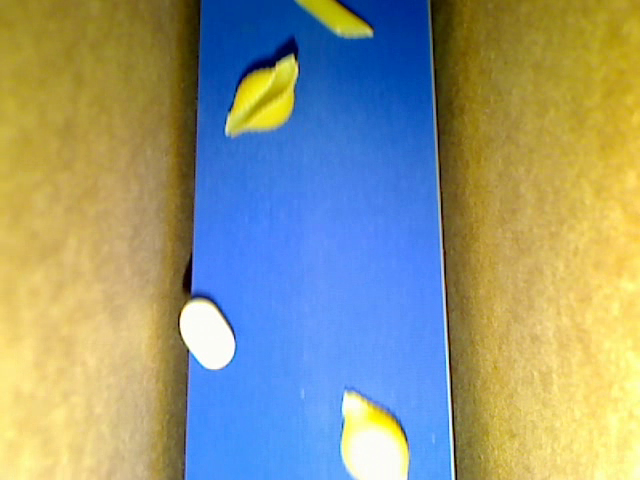penne: (293, 1, 374, 39)
shell: (340, 389, 410, 479), (223, 54, 297, 137)
